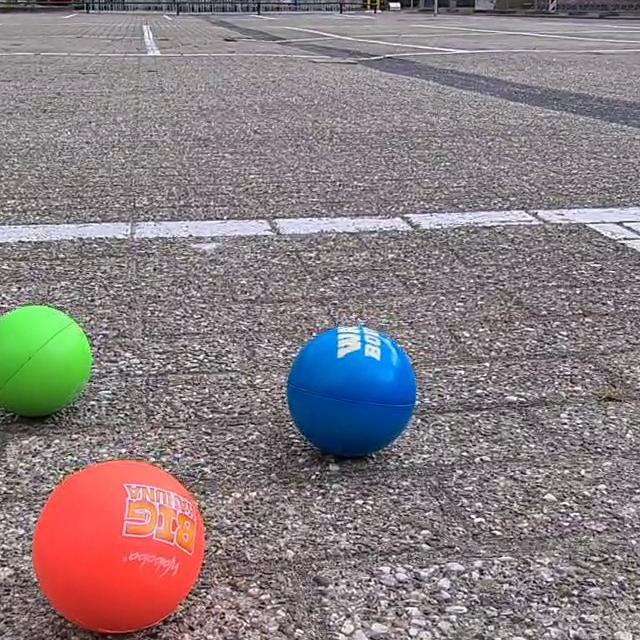ball: (282, 360, 420, 459), (1, 302, 96, 418)
